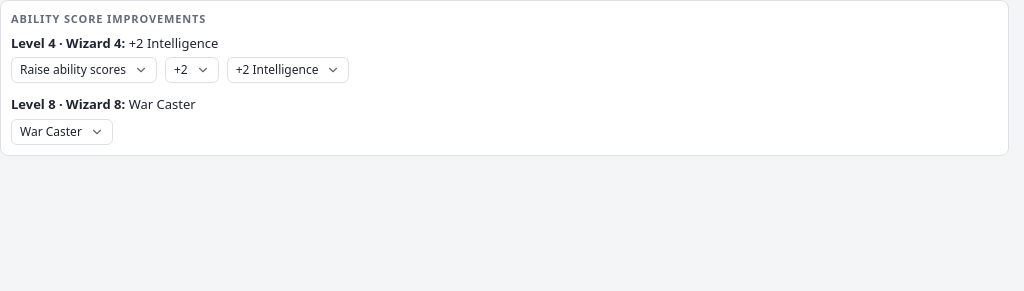
Test: Improvements › keeps offering a feat taken where the character no longer qualifies for it
Click the dropdown named "Level 8 choice".
click(62, 132)  # box [11,118,113,144]
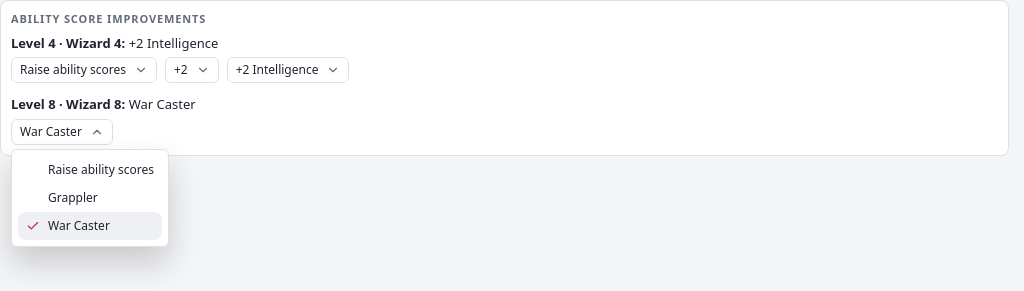
Check: the option "Grappler" is shown, box [48,188,98,206]
Check: the option "War Caster" is shown, box [18,212,162,240]
